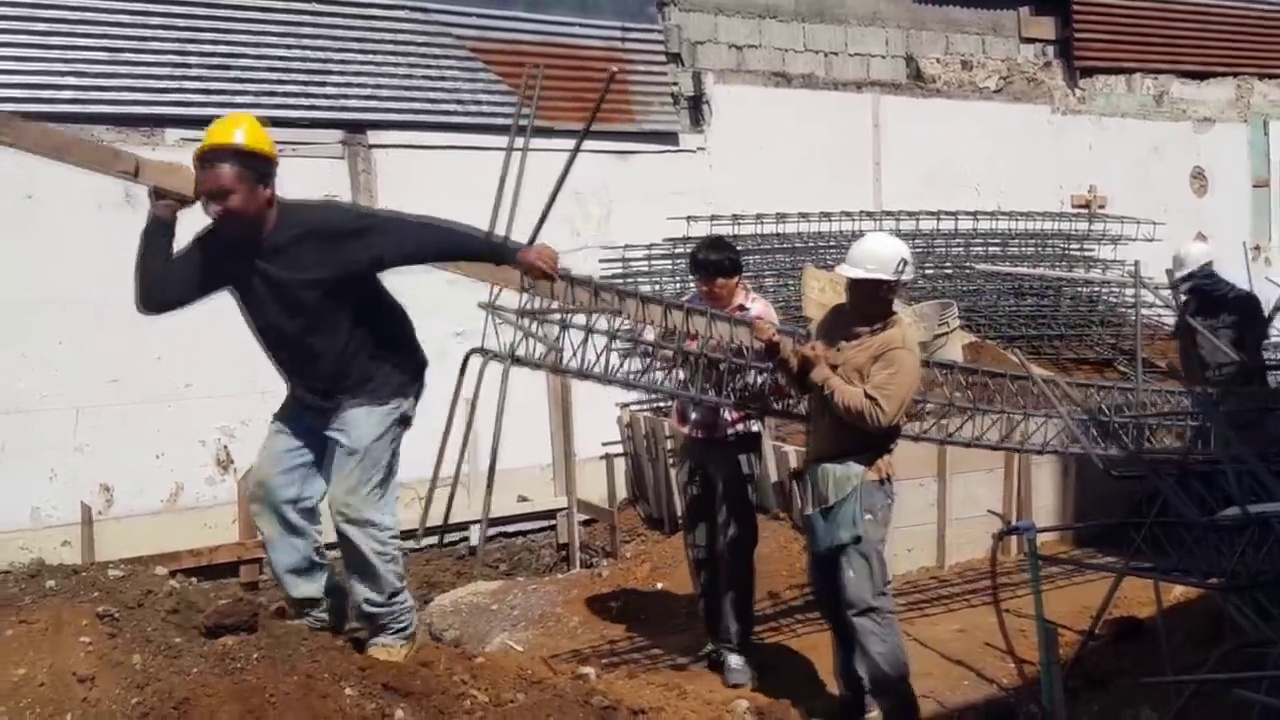helmet: (181, 109, 281, 171), (833, 231, 925, 295), (1168, 237, 1217, 282)
helmet-off: (688, 236, 747, 310)
helmet-on: (180, 111, 282, 238), (833, 229, 925, 330), (1170, 239, 1231, 297)
person: (132, 107, 559, 668), (778, 230, 928, 720), (661, 233, 776, 707), (1170, 242, 1274, 390)
